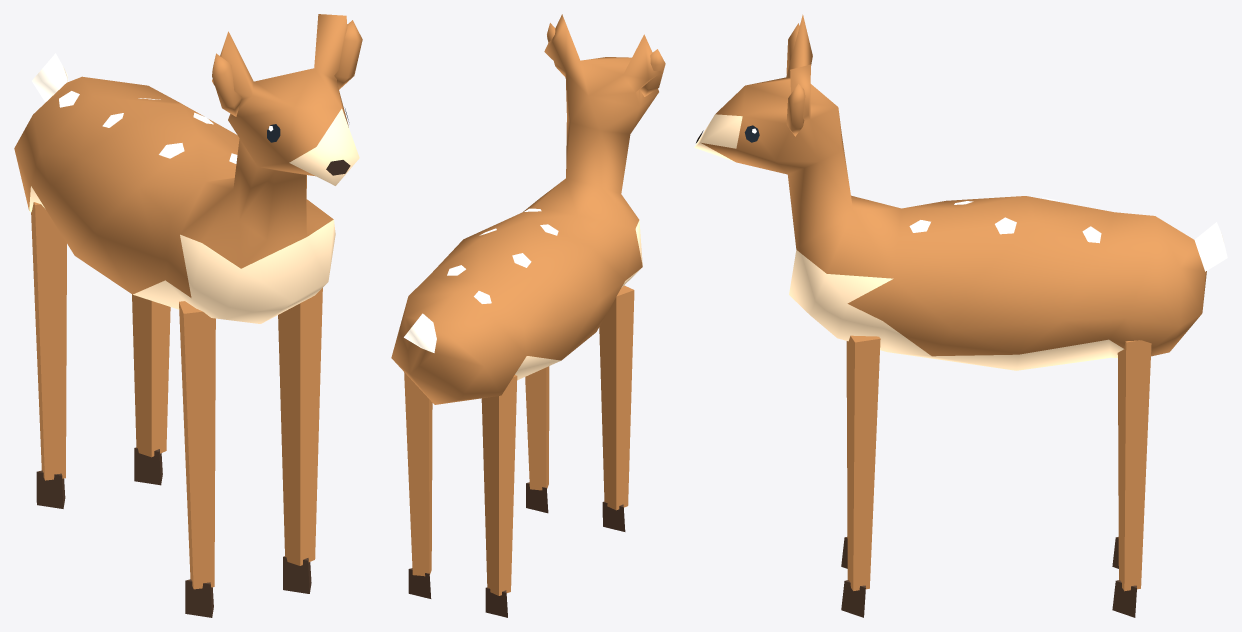
Rendered from fawn.glb.
3 views of the same model, side by side, from view 1: azimuth 30°, elevation 25°; view 2: azimuth 150°, elevation 25°; view 3: azimuth 270°, elevation 25° (orthographic). The views are drawn at different scales.
Visible parts, largest first — view 1: fawn; view 2: fawn; view 3: fawn.
Part boxes in pixels (box(x1,y1,x2,y2)): fawn: box(14, 14, 362, 617); fawn: box(391, 14, 665, 617); fawn: box(694, 14, 1227, 617).
Size of the model in its own units: 0.395 by 1.25 by 1.1.
